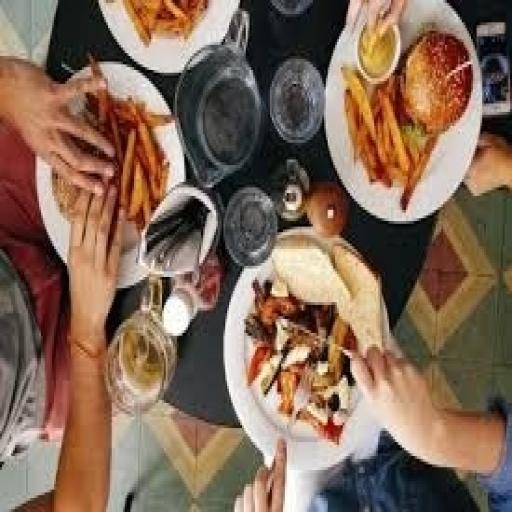eating: (2, 6, 508, 506)
